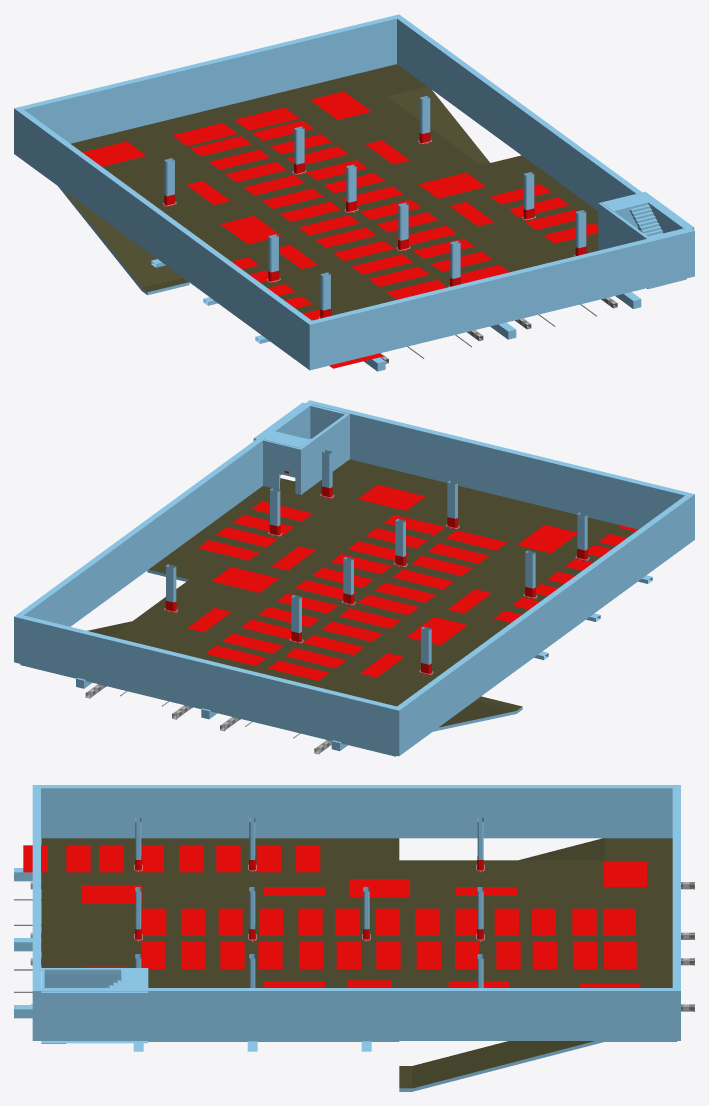
3 renders of one model, top to bottom at view 1: azimuth 30°, elevation 25°; view 2: azimuth 150°, elevation 25°; view 3: azimuth 270°, elevation 25°, orthographic. The views are drawn at different scales.
Parts seen in each view (by area): view 1: Box008; view 2: Box008; view 3: Box008.
Boxes of the visible parts, x1,y1,x2,y2 form: Box008: [14, 14, 694, 371]; Box008: [14, 400, 694, 756]; Box008: [14, 785, 694, 1091].
Bounding box in the file's own units: 0.6142 × 0.8354 × 0.1398.
